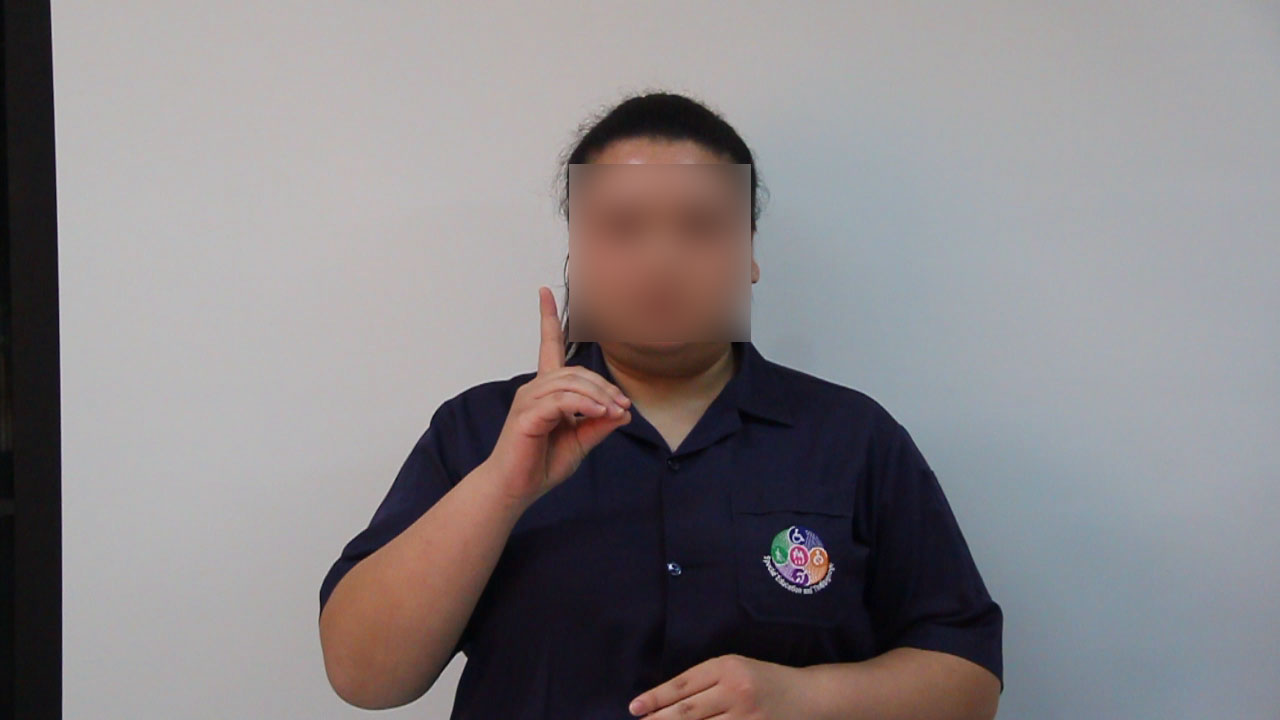dor: (455, 280, 643, 495)
